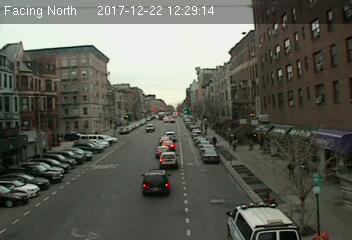car: (140, 168, 172, 195), (157, 151, 177, 168), (202, 149, 219, 162), (154, 145, 169, 158)
police: (225, 197, 300, 240)
